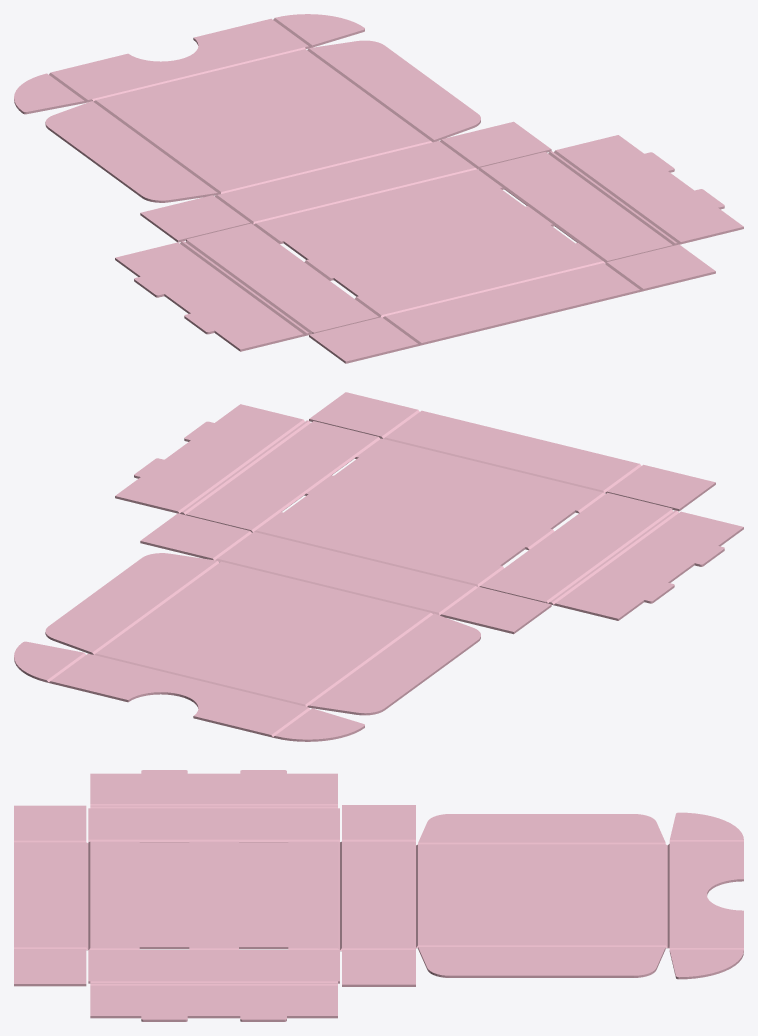
Rendered from caja-plegable.glb.
3 renders of one model, top to bottom at view 1: azimuth 30°, elevation 25°; view 2: azimuth 150°, elevation 25°; view 3: azimuth 270°, elevation 25°, orthographic.
Visible parts, largest first — view 1: pieza; view 2: pieza; view 3: pieza.
Part boxes in pixels (x1,y1,x2,y2): pieza: (14,14,743,363); pieza: (14,392,743,741); pieza: (14,770,743,1021).
Bounding box in the file's own units: 0.1193 × 0.0005 × 0.1474.
